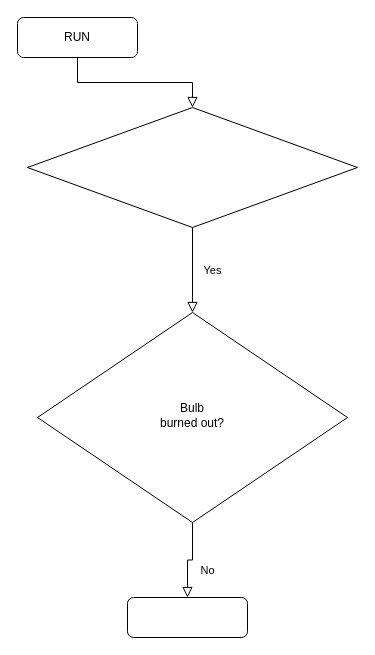
This 375x655 diagram has some shape labels left out. Each missing label, with the centre of its shape:
아이스크림 부분 반복문 활용 생성 (높이 변수, 넓이 변수 활용): point (192, 167)
출력: point (187, 617)
